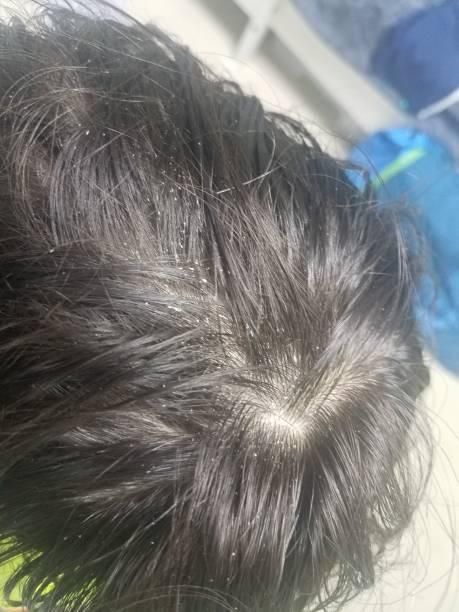dandruff: (185, 256, 220, 292), (65, 116, 99, 142), (112, 229, 143, 257), (186, 130, 215, 156), (240, 435, 259, 468), (131, 293, 155, 311), (164, 182, 179, 197)
